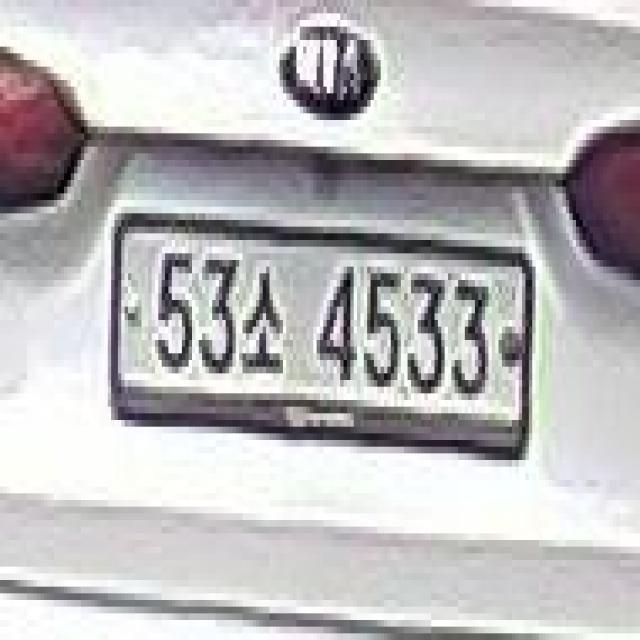3: (407, 261, 445, 401), (451, 268, 489, 400), (202, 252, 237, 382)
4: (313, 256, 359, 394)
5: (361, 258, 404, 400), (151, 242, 194, 380)
license_plate: (101, 192, 544, 489)
so: (240, 265, 285, 387)
